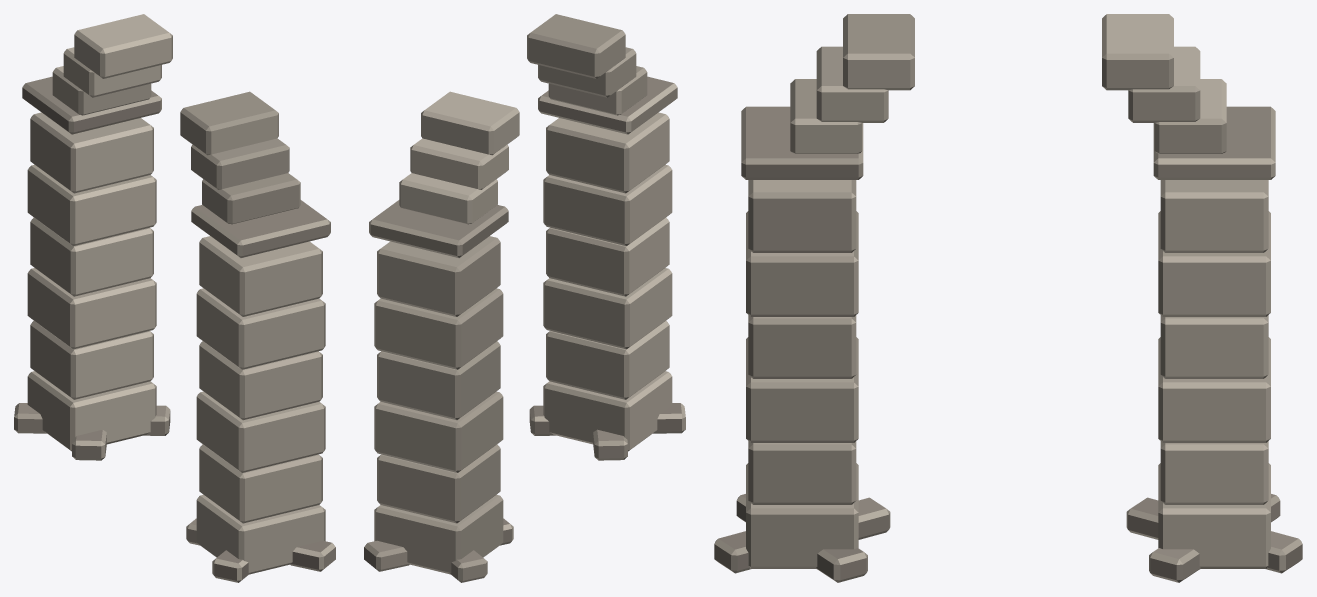
File: SM_Kit_arco.fbx
3 renders of one model, left to right at view 1: azimuth 30°, elevation 25°; view 2: azimuth 150°, elevation 25°; view 3: azimuth 270°, elevation 25°, orthographic. The views are drawn at different scales.
Parts seen in each view (by area): view 1: SM_Kit_arco; view 2: SM_Kit_arco; view 3: SM_Kit_arco.
Boxes of the visible parts, x1,y1,x2,y2 form: SM_Kit_arco: (14,14,335,582); SM_Kit_arco: (364,14,685,582); SM_Kit_arco: (714,14,1302,582).
Size of what is drawn, in the model's own units: 147 by 473 by 491.
